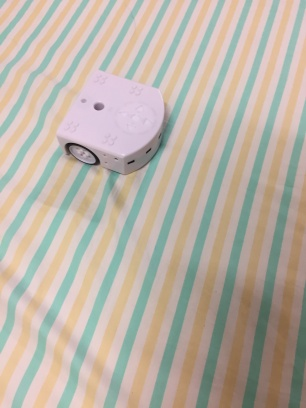thymio: (52, 67, 171, 176)
